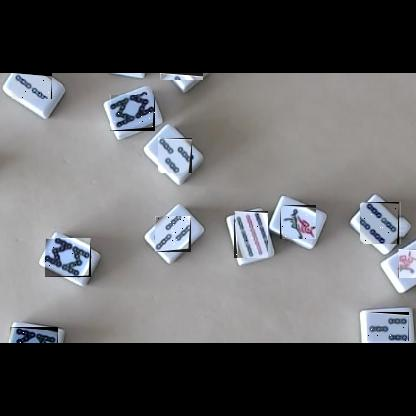1s: (280, 205, 316, 239), (398, 249, 416, 278)
2s: (12, 73, 52, 99)
3s: (155, 216, 191, 252), (367, 312, 409, 341), (158, 138, 192, 173)
4s: (361, 202, 404, 244), (160, 73, 203, 80)
8s: (45, 238, 91, 277), (110, 95, 155, 131), (10, 327, 58, 343)
9s: (234, 211, 268, 258)
